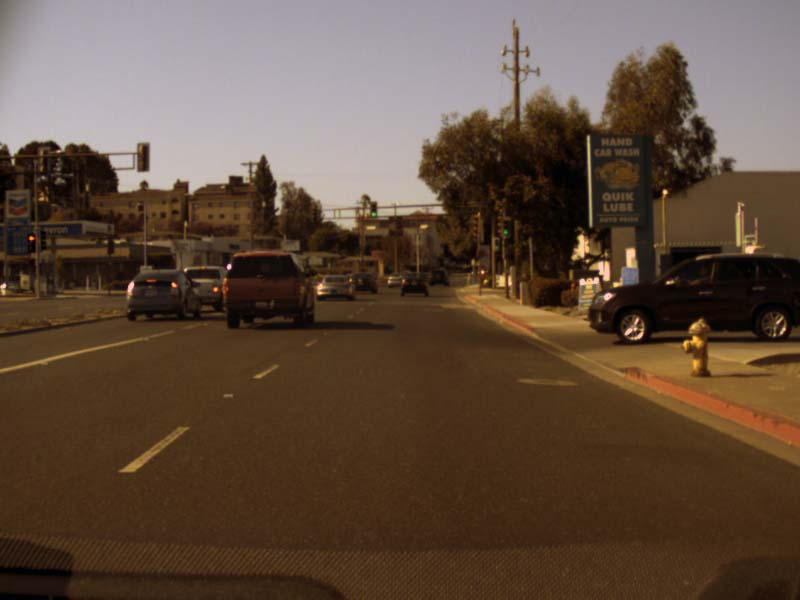Green: (503, 215, 512, 236), (371, 200, 377, 217), (493, 238, 498, 251)
Red: (27, 233, 35, 253)
